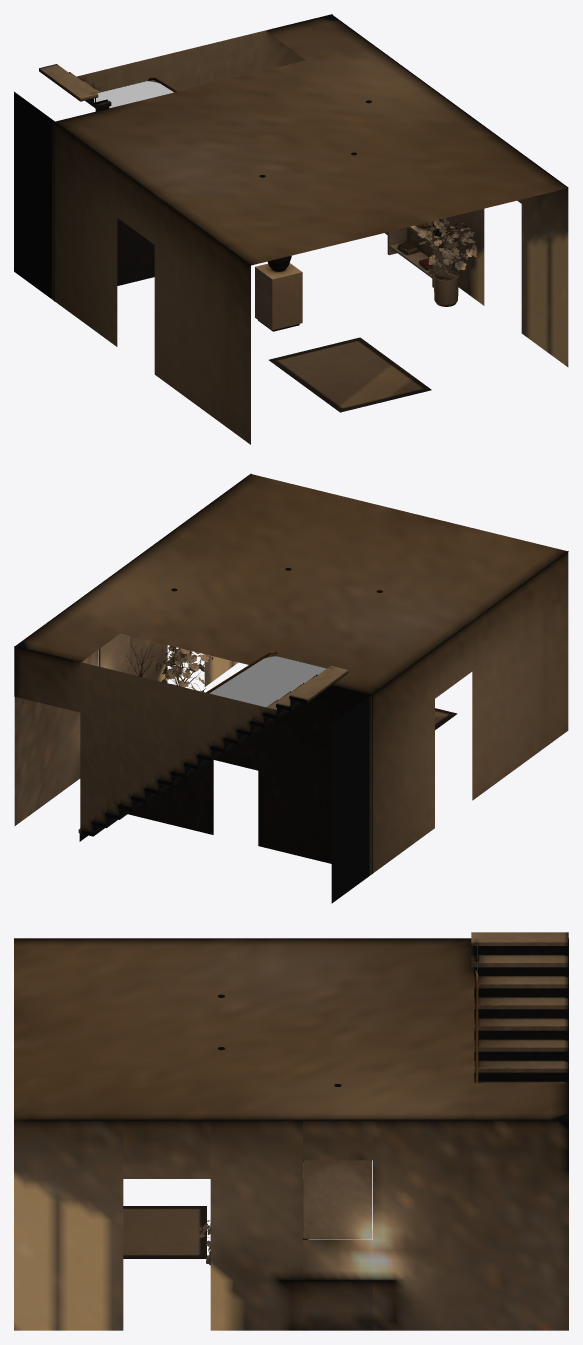
File: foyer.glb
3 views of the same model, one above another, from view 1: azimuth 30°, elevation 25°; view 2: azimuth 150°, elevation 25°; view 3: azimuth 270°, elevation 25° (orthographic). The views are drawn at different scales.
Parts seen in each view (by area): view 1: foyer__ground__vtx, foyer__upper__vtx, foyer__ground__raw; view 2: foyer__ground__vtx, foyer__upper__vtx, foyer__ground__raw; view 3: foyer__ground__vtx, foyer__upper__vtx.
Part boxes in pixels (x1,y1,x2,y2): foyer__ground__vtx: [14, 14, 568, 444]; foyer__upper__vtx: [54, 15, 567, 265]; foyer__ground__raw: [94, 81, 173, 108]; foyer__ground__vtx: [14, 473, 568, 903]; foyer__upper__vtx: [15, 474, 568, 694]; foyer__ground__raw: [209, 656, 326, 707]; foyer__ground__vtx: [14, 932, 568, 1330]; foyer__upper__vtx: [14, 939, 568, 1120].
Bounding box in the file's own units: 5.95 × 3.54 × 7.62.
